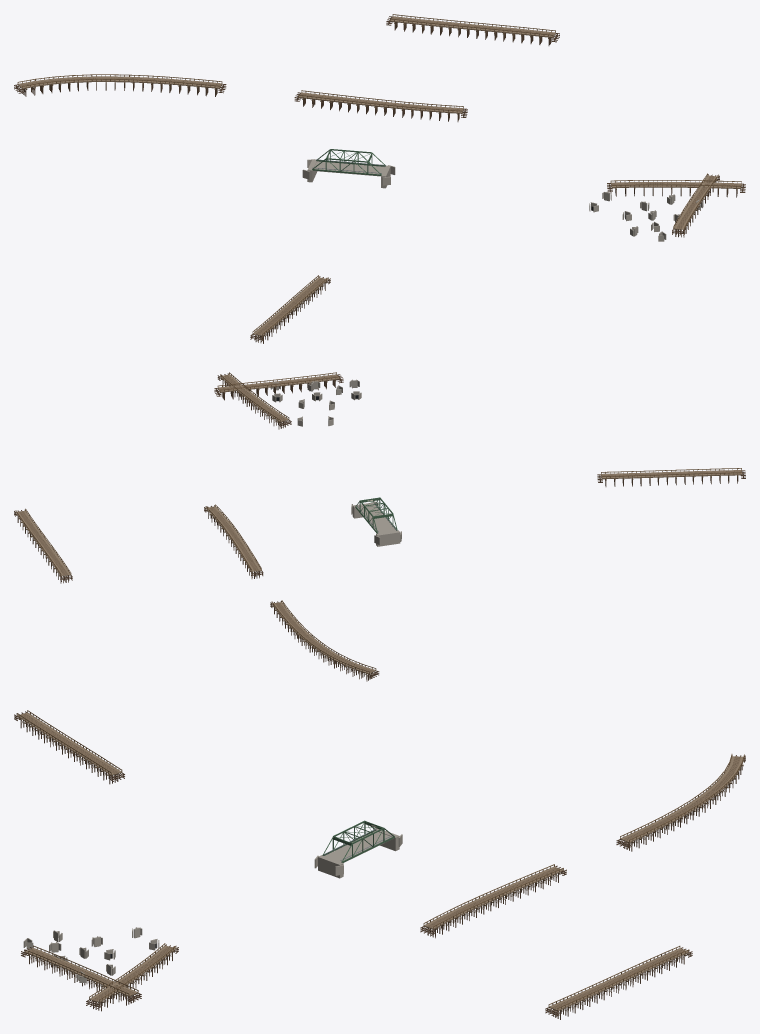
Rendered from bridges_pike_narrows.glb.
3 renders of one model, top to bottom at view 1: azimuth 30°, elevation 25°; view 2: azimuth 150°, elevation 25°; view 3: azimuth 270°, elevation 25°, orthographic. The views are drawn at different scales.
Visible parts, largest first — view 1: bridge_truss_road_a; view 2: bridge_truss_road_a; view 3: bridge_truss_road_a.
Part boxes in pixels (<box>): bridge_truss_road_a: <box>302,149,395,188</box>; bridge_truss_road_a: <box>351,497,401,546</box>; bridge_truss_road_a: <box>314,820,402,878</box>.
Size of the model in its own units: 269 by 11.67 by 276.
